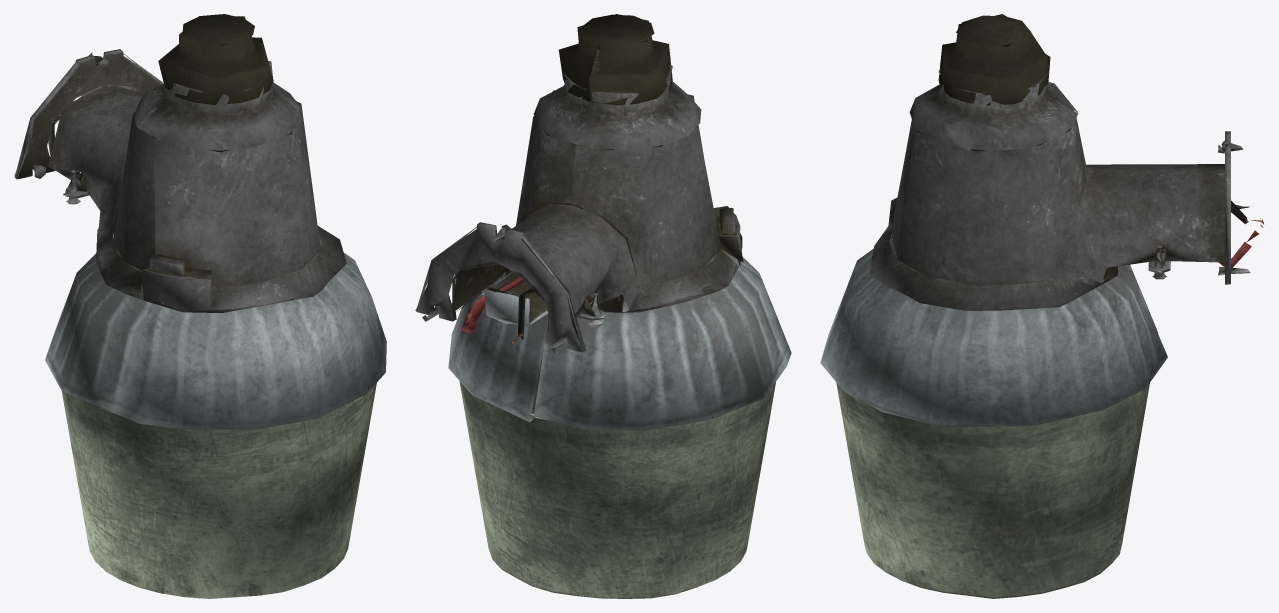
File: security_light.fbx
The picture shows the model from 3 angles, left to right: view 1: azimuth 30°, elevation 25°; view 2: azimuth 150°, elevation 25°; view 3: azimuth 270°, elevation 25°; orthographic projection.
Visible parts, largest first — view 1: security_light, security_light_glass; view 2: security_light, security_light_glass; view 3: security_light, security_light_glass.
Boxes of the visible parts, <box> form: security_light: <box>14,14,386,429</box>; security_light_glass: <box>61,383,376,598</box>; security_light: <box>415,14,791,430</box>; security_light_glass: <box>459,381,775,598</box>; security_light: <box>820,14,1263,427</box>; security_light_glass: <box>836,382,1149,598</box>.
Bounding box in the file's own units: 32.06 × 53.1 × 41.63.
Materials: 3 (3 with a texture image).
